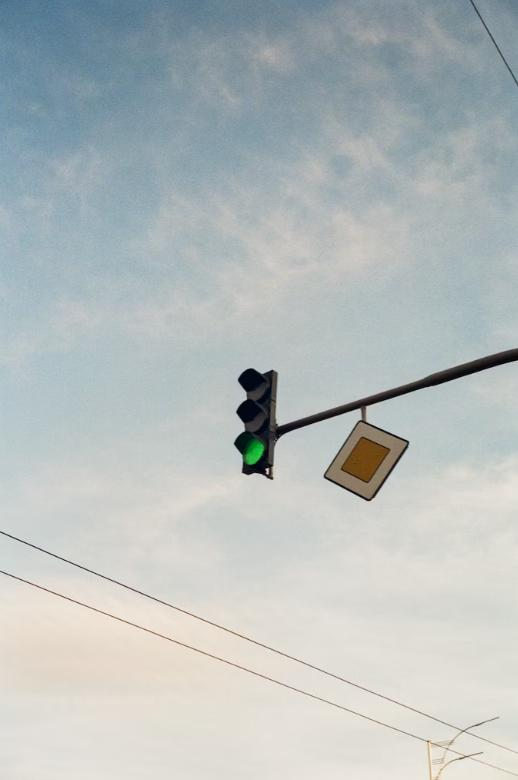green_light: (234, 368, 277, 475)
